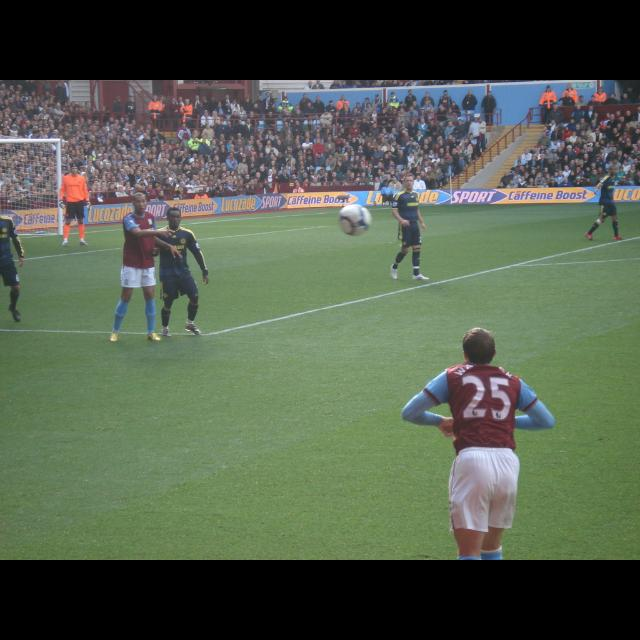Football: (337, 204, 369, 236)
